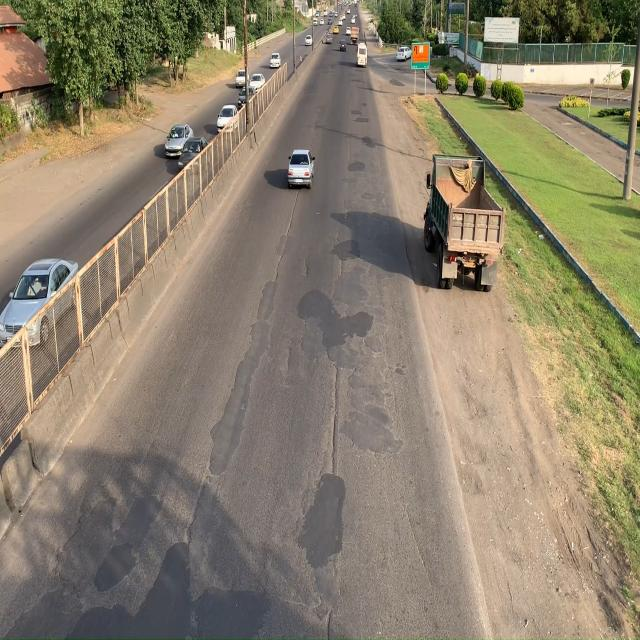Truck: (424, 156, 508, 298)
cars: (0, 257, 81, 348), (284, 147, 315, 190), (163, 118, 194, 158)
